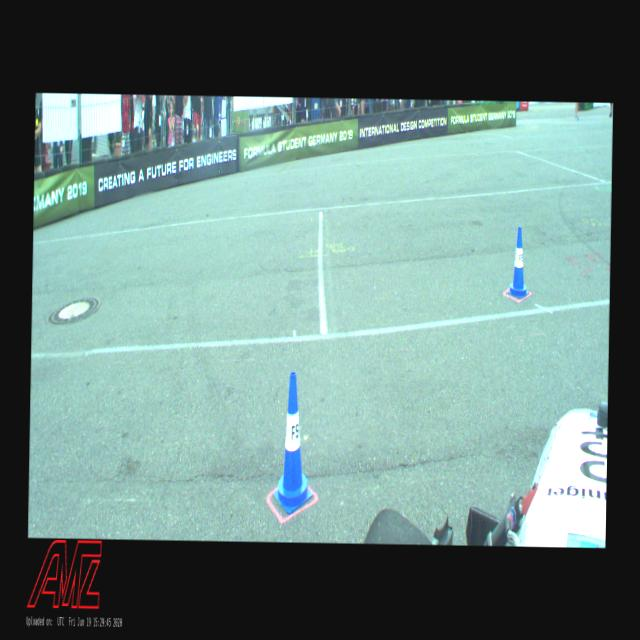blue_cone: (273, 372, 314, 514), (506, 226, 530, 298)
